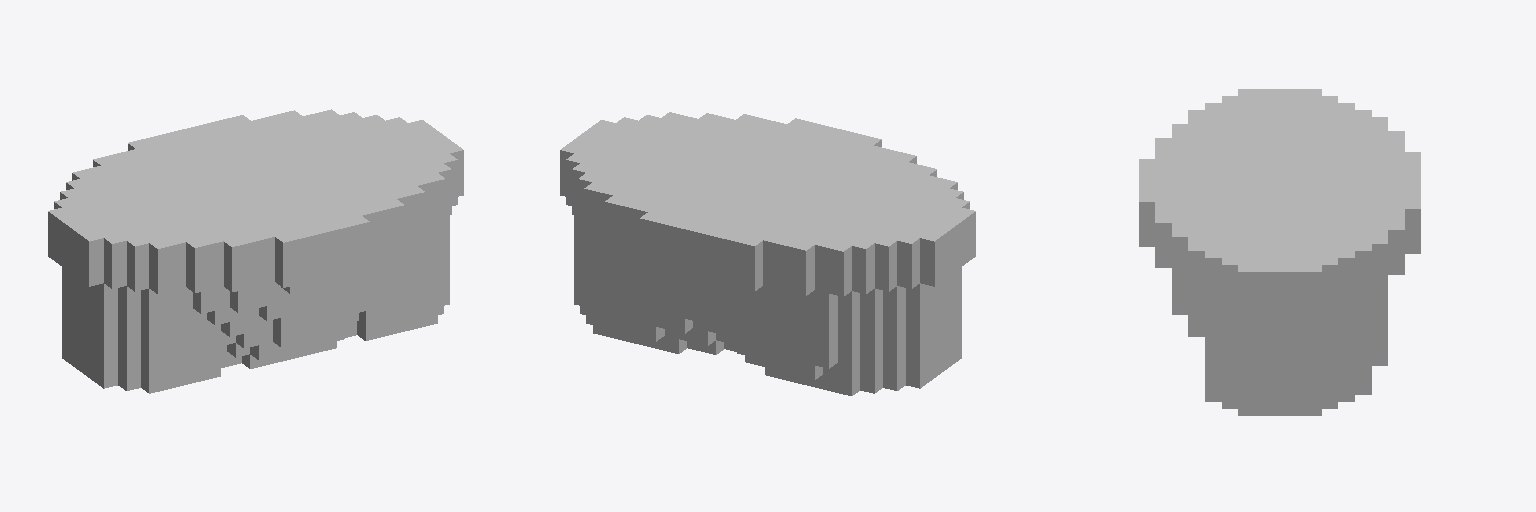
The model's file is Hero-1 1.obj.
The picture shows the model from 3 angles: view 1: azimuth 30°, elevation 25°; view 2: azimuth 150°, elevation 25°; view 3: azimuth 270°, elevation 25°; orthographic projection.
Visible parts, largest first — view 1: object 1; view 2: object 1; view 3: object 1.
Part boxes in pixels (x1,y1,x2,y2): object 1: (48,109,463,393); object 1: (560,112,975,395); object 1: (1139,89,1420,415).
Bounding box in the file's own units: 2.6 × 1 × 1.7.